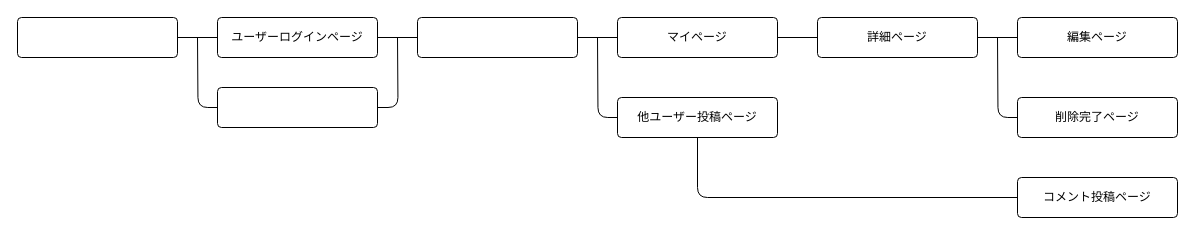
Image size: 1195x235. Some labels were removed from this diagram. The shapes that lost their labels are listed below. From the top down, each one's centre as x and y in pixels, then its label:
pixel 97 37: トップページ
pixel 497 37: 投稿一覧ページ
pixel 297 107: ユーザー新規投稿ページ
